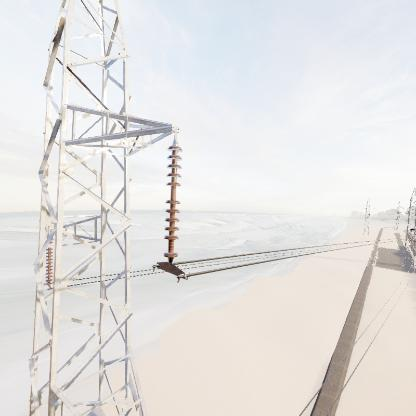insulator: (159, 141, 188, 265), (45, 237, 54, 284)
